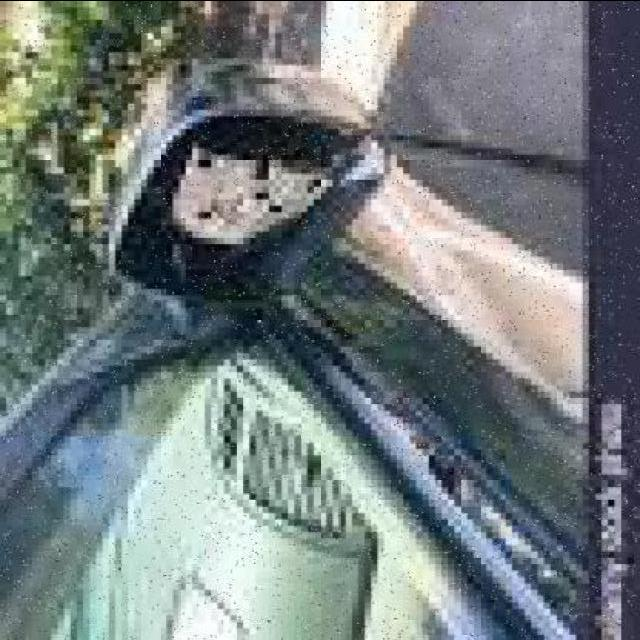Sidemirror-Damage: (96, 44, 397, 313)
